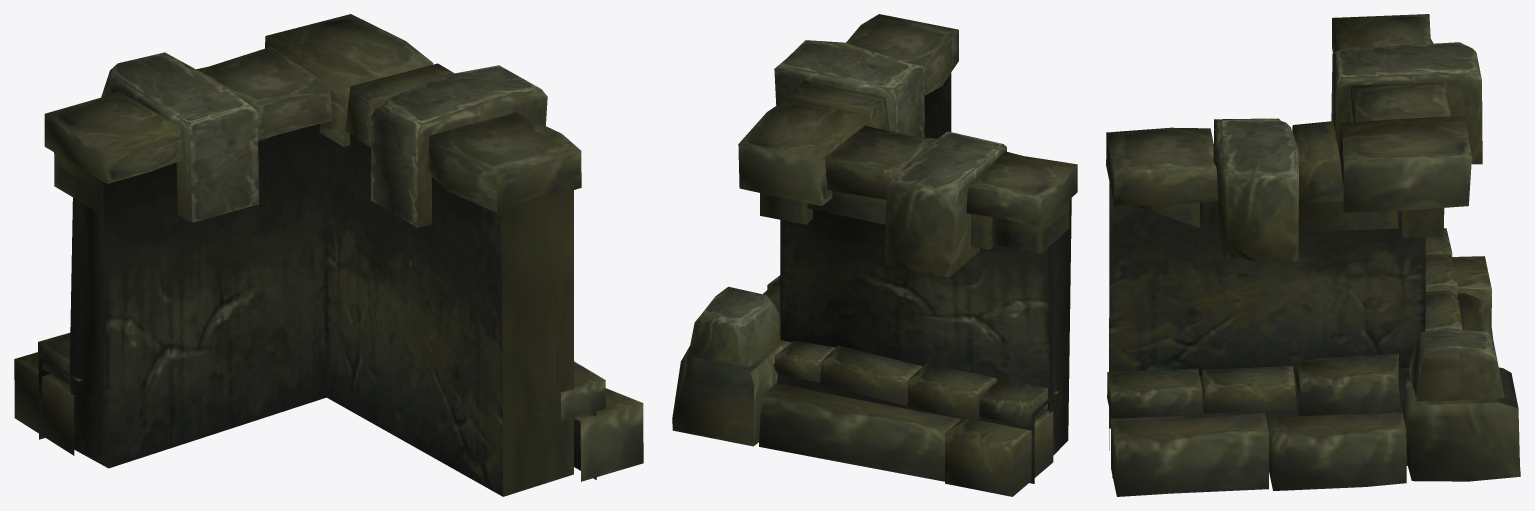
The model's file is fxmg_wall7.FBX.
3 renders of one model, left to right at view 1: azimuth 30°, elevation 25°; view 2: azimuth 150°, elevation 25°; view 3: azimuth 270°, elevation 25°, orthographic. The views are drawn at different scales.
Parts seen in each view (by area): view 1: KLMSM_wall7; view 2: KLMSM_wall7; view 3: KLMSM_wall7.
Boxes of the visible parts, x1=… form: KLMSM_wall7: x1=14, y1=14, x2=643, y2=496; KLMSM_wall7: x1=672, y1=14, x2=1077, y2=496; KLMSM_wall7: x1=1106, y1=14, x2=1520, y2=496.
Size of the model in its own units: 226 by 176 by 211.
